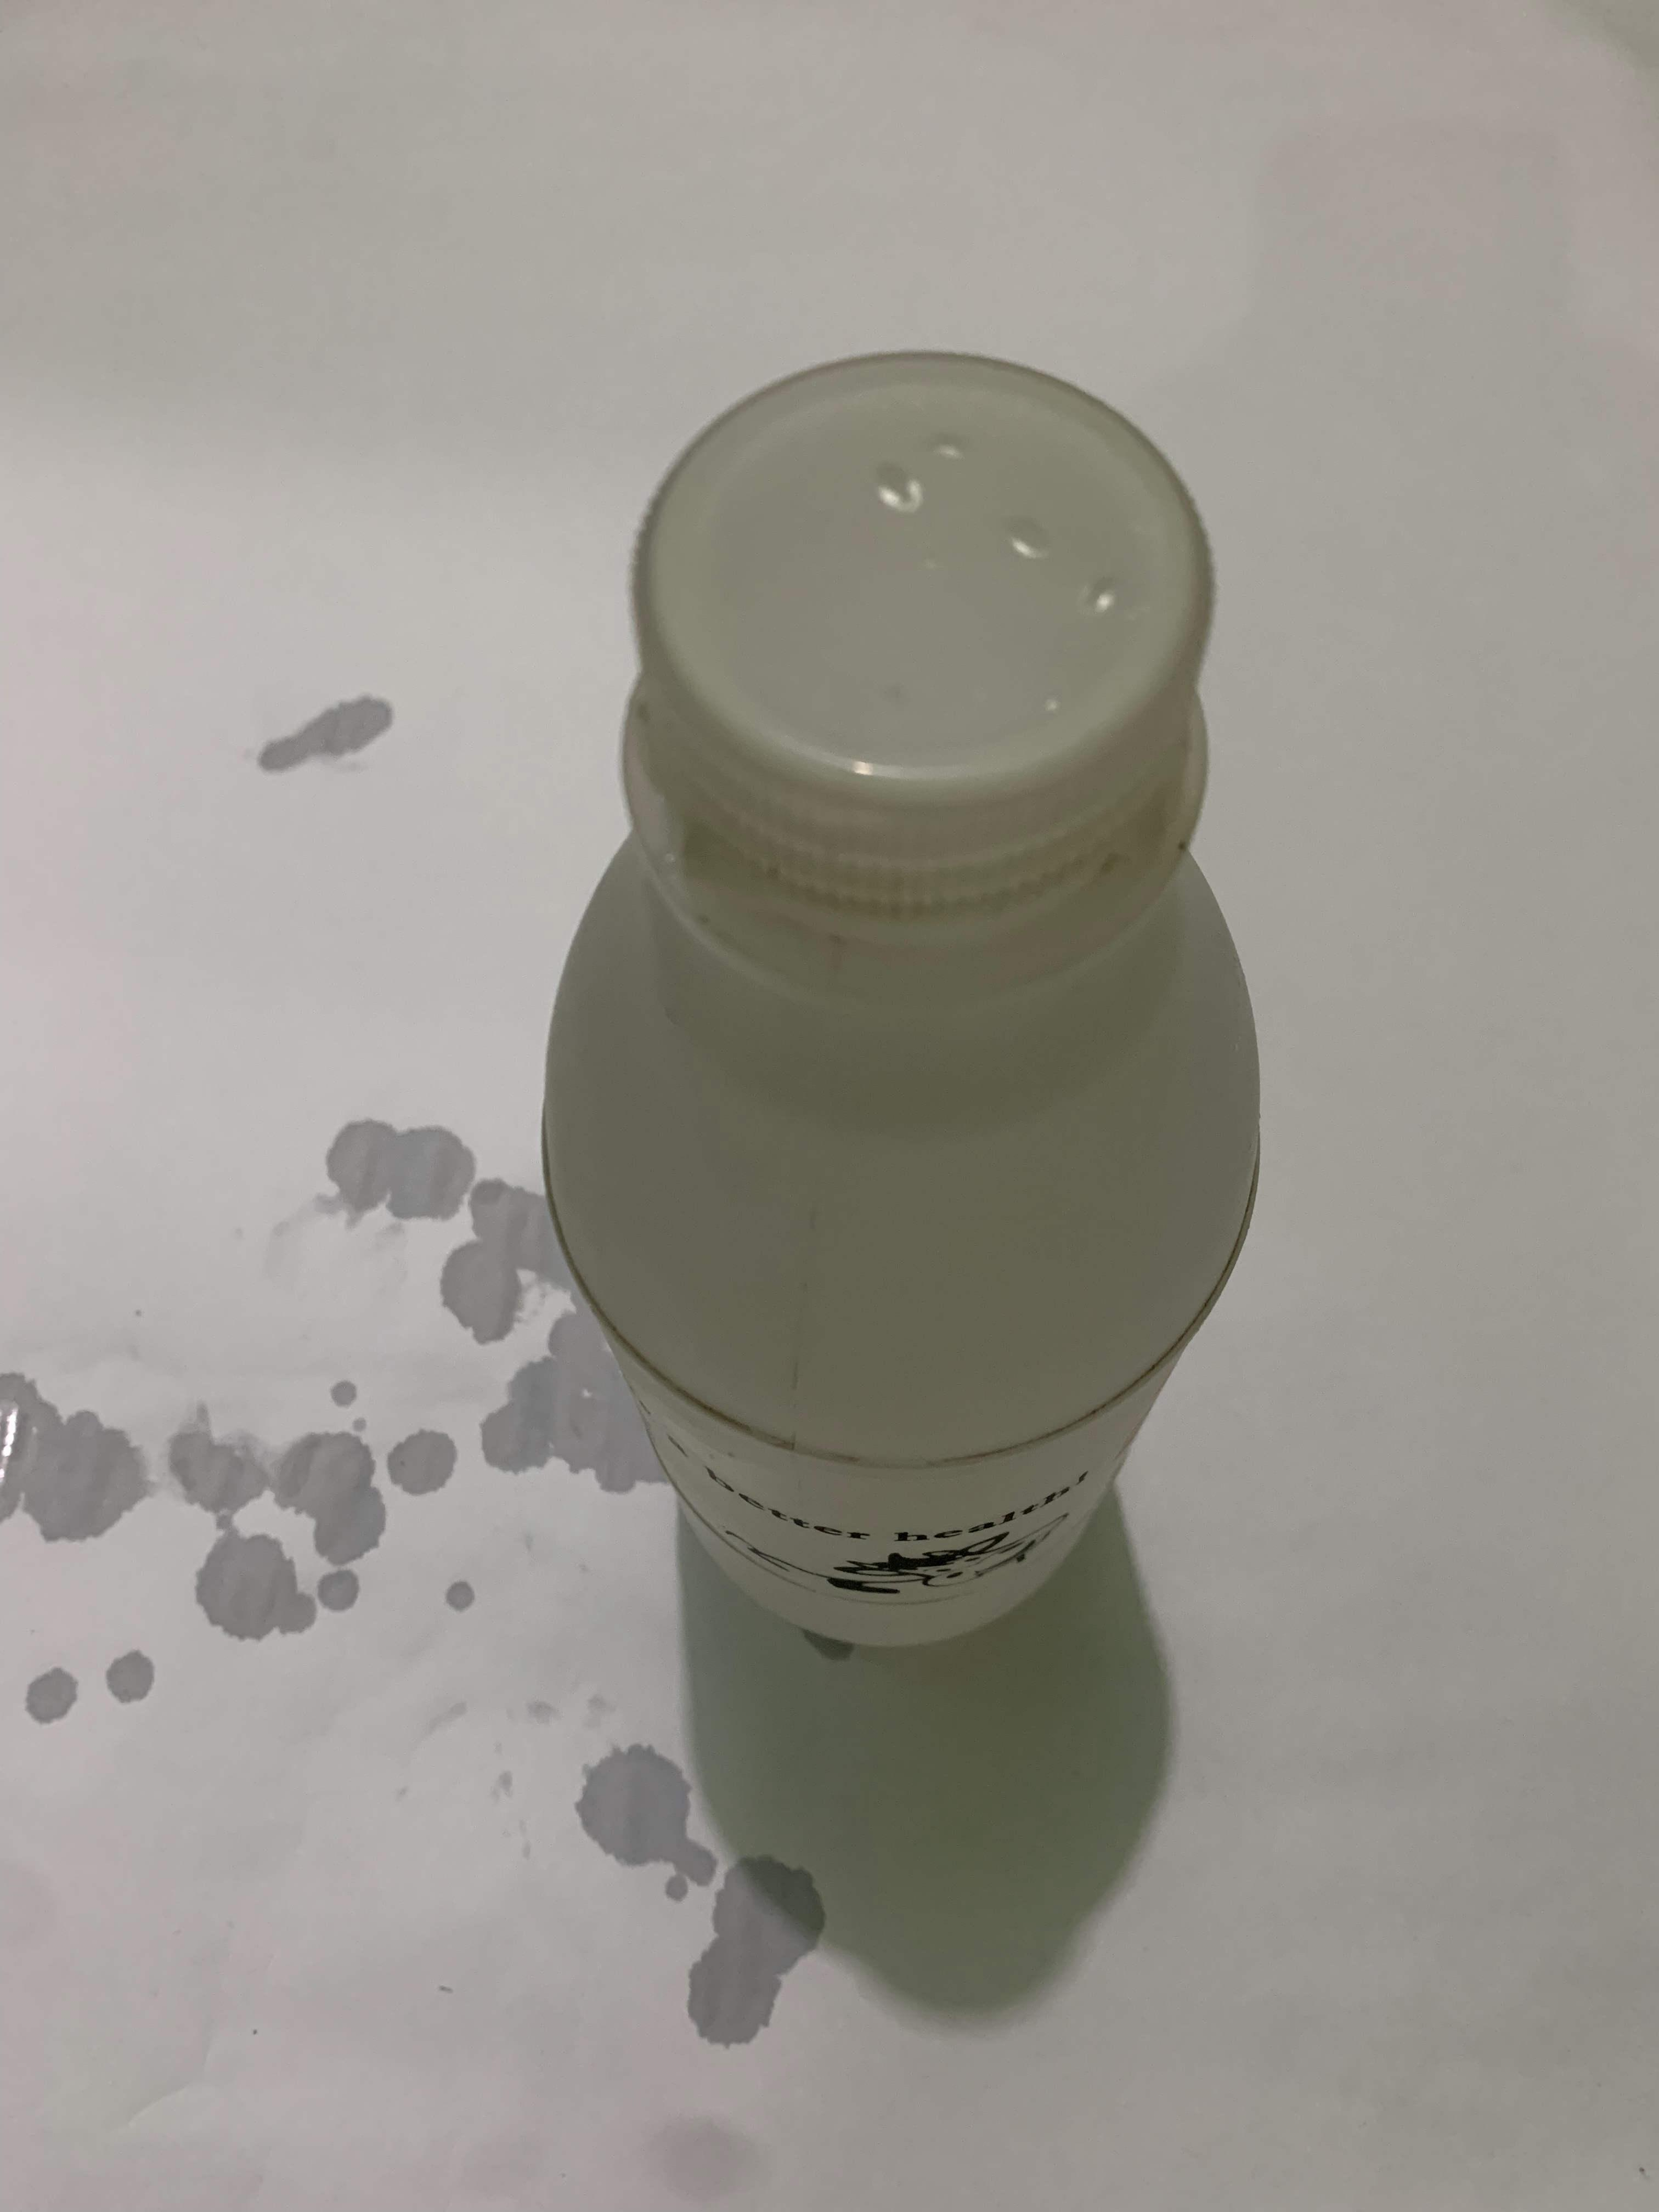bottle: (0, 225, 443, 1552)
